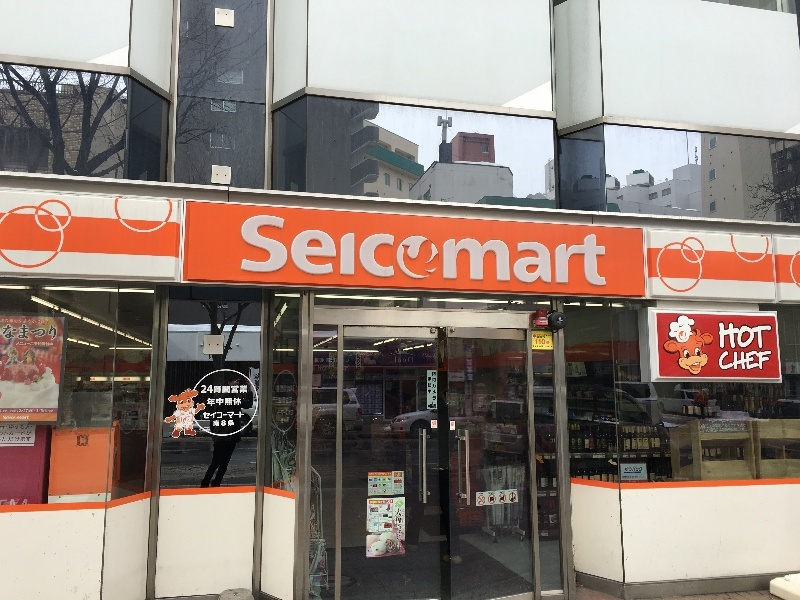text: (257, 212, 272, 289), (273, 212, 288, 289), (289, 212, 304, 289), (305, 212, 320, 289), (321, 212, 336, 289), (337, 212, 352, 289), (353, 212, 368, 289), (369, 212, 384, 289), (385, 212, 400, 289), (401, 212, 416, 289), (417, 212, 432, 289), (433, 212, 448, 289), (449, 212, 464, 289), (465, 212, 480, 289), (481, 212, 496, 289), (497, 212, 512, 289), (513, 212, 528, 289), (529, 212, 544, 289), (545, 212, 560, 289), (561, 212, 576, 289), (577, 212, 592, 289), (593, 212, 608, 289), (243, 212, 256, 289), (209, 384, 224, 430), (225, 384, 240, 430), (198, 384, 208, 430), (721, 322, 736, 351), (737, 322, 752, 351), (753, 322, 768, 351), (369, 471, 384, 497), (385, 471, 400, 497), (241, 384, 249, 430), (275, 397, 288, 425), (721, 350, 736, 371), (737, 350, 752, 371), (753, 350, 768, 371), (357, 354, 368, 379), (17, 323, 32, 341), (33, 323, 48, 341), (1, 425, 16, 443), (17, 425, 32, 443), (2, 323, 16, 341), (609, 212, 612, 289), (395, 508, 400, 551), (49, 323, 60, 341), (289, 397, 294, 425), (705, 424, 720, 433), (721, 424, 736, 433), (402, 509, 416, 518), (515, 367, 528, 376), (436, 341, 448, 350), (737, 424, 749, 433), (17, 341, 32, 348), (33, 341, 48, 348), (276, 385, 288, 393), (17, 318, 32, 324), (33, 318, 48, 324), (257, 373, 260, 402), (433, 372, 436, 401), (769, 322, 772, 351), (401, 508, 403, 551), (401, 356, 413, 363), (370, 513, 384, 519), (401, 471, 404, 497), (3, 318, 16, 324), (625, 467, 640, 472), (129, 404, 144, 409), (331, 354, 336, 369), (2, 416, 16, 421), (321, 365, 331, 372), (609, 415, 619, 422), (428, 377, 432, 394), (421, 353, 432, 359), (17, 416, 30, 421), (451, 422, 464, 427), (769, 350, 772, 371), (1, 410, 16, 414), (33, 409, 48, 413), (321, 358, 333, 363), (353, 352, 368, 356), (369, 352, 384, 356), (369, 528, 384, 532), (718, 322, 720, 351), (370, 500, 384, 504), (19, 409, 32, 413), (601, 415, 608, 422), (289, 385, 295, 393), (344, 366, 352, 372), (721, 420, 733, 424), (709, 420, 720, 424), (450, 396, 464, 399), (718, 350, 720, 371), (536, 340, 544, 345), (700, 424, 704, 433), (49, 341, 54, 348), (395, 356, 400, 363), (537, 334, 544, 339), (545, 334, 552, 339), (344, 352, 352, 356), (625, 476, 641, 478), (145, 366, 151, 371), (433, 426, 448, 428), (255, 373, 256, 402), (385, 500, 392, 504), (385, 519, 392, 523), (315, 358, 320, 363), (545, 340, 550, 345), (330, 375, 336, 379), (385, 510, 393, 513), (533, 346, 544, 348), (629, 481, 640, 483), (385, 528, 392, 531), (49, 409, 54, 413), (433, 421, 437, 426), (10, 410, 16, 413), (433, 353, 436, 359), (380, 519, 384, 523), (123, 378, 128, 381), (91, 378, 96, 381), (14, 341, 16, 348), (318, 365, 320, 372), (545, 346, 552, 348), (451, 428, 464, 429), (348, 427, 352, 430), (380, 510, 384, 513), (641, 467, 643, 472), (381, 528, 384, 531), (17, 410, 19, 413), (49, 318, 50, 324), (433, 403, 434, 407), (129, 378, 130, 381), (623, 476, 624, 478)
